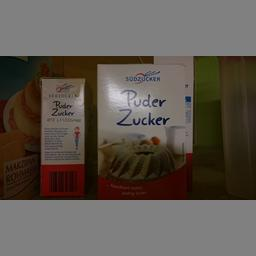sugar: (95, 62, 186, 198), (39, 74, 86, 196)
